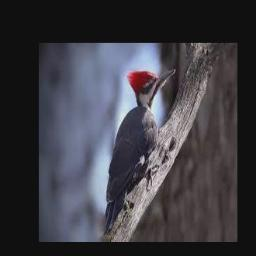Woodpecker: (104, 68, 175, 233)
